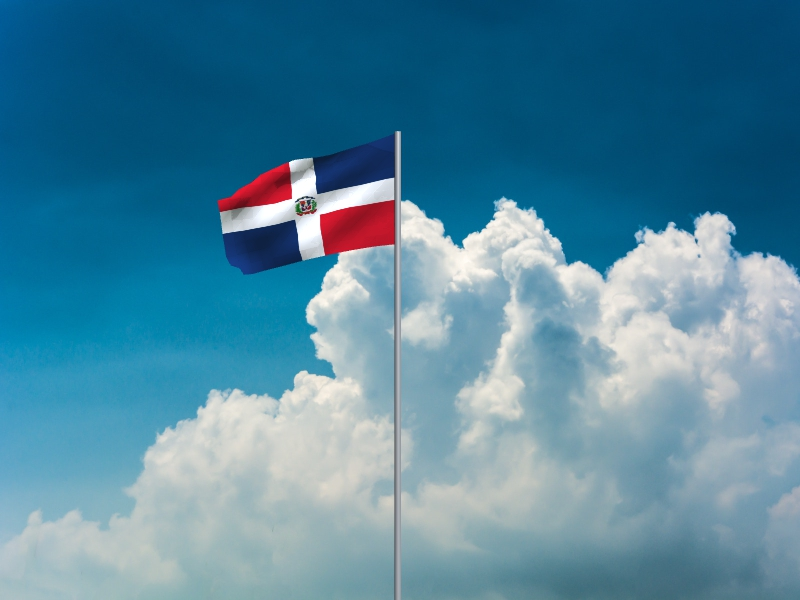do: (217, 135, 395, 277)
